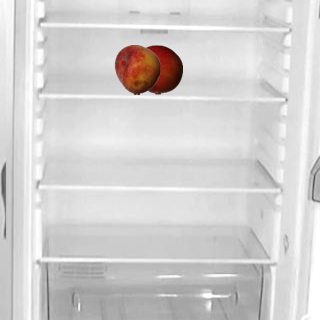Apple Braeburn: (132, 44, 182, 94)
Peach: (112, 44, 162, 94)
